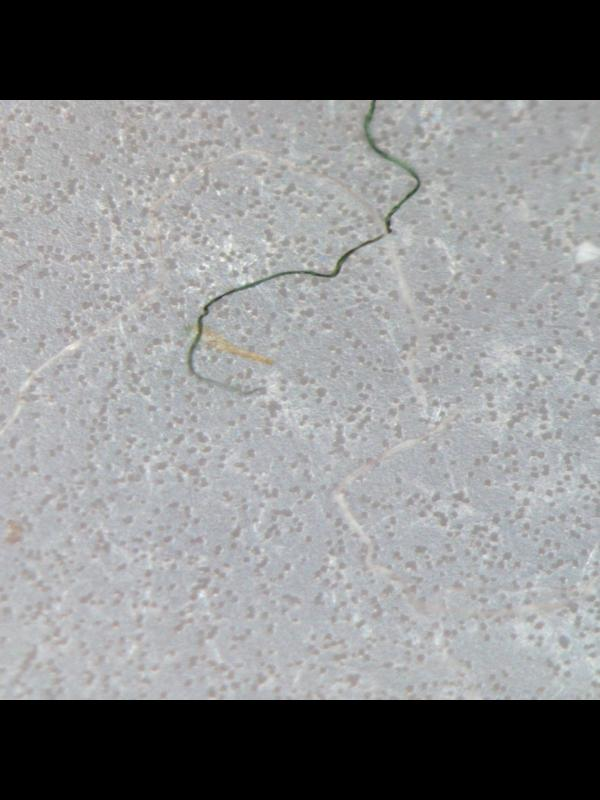microplastic: (0, 100, 600, 699), (164, 100, 421, 396)
